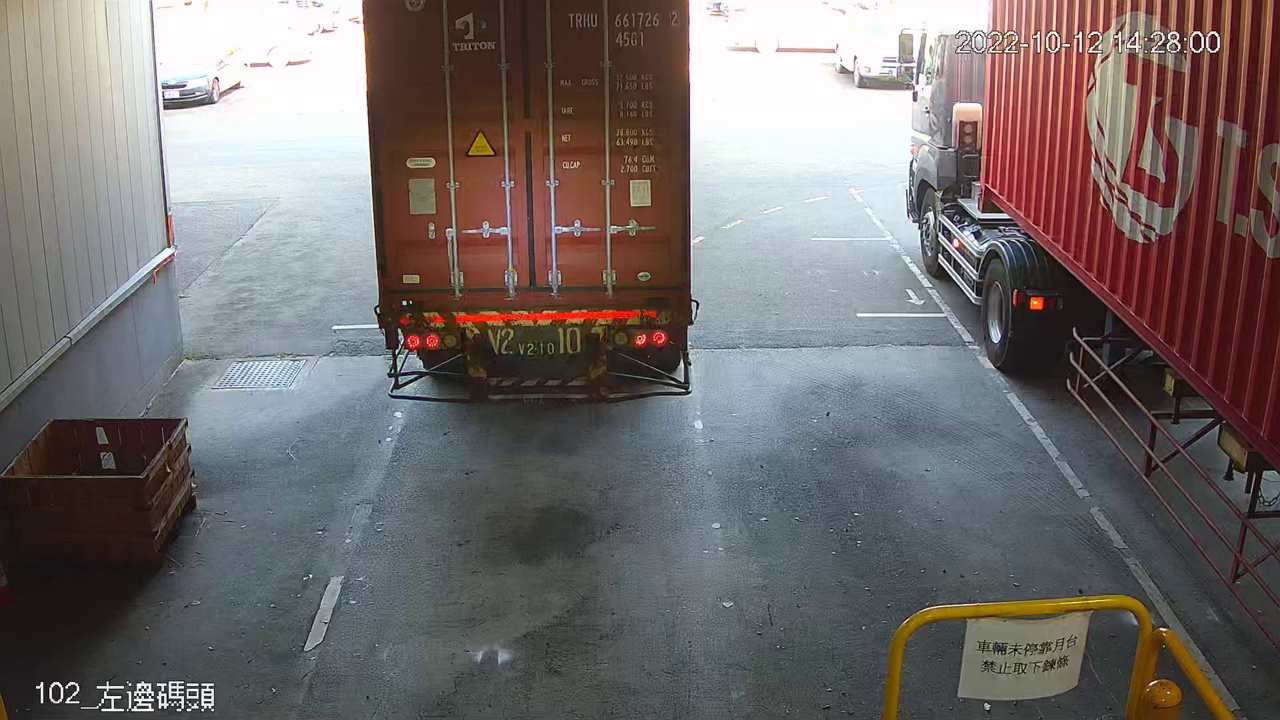container: (563, 4, 683, 51)
